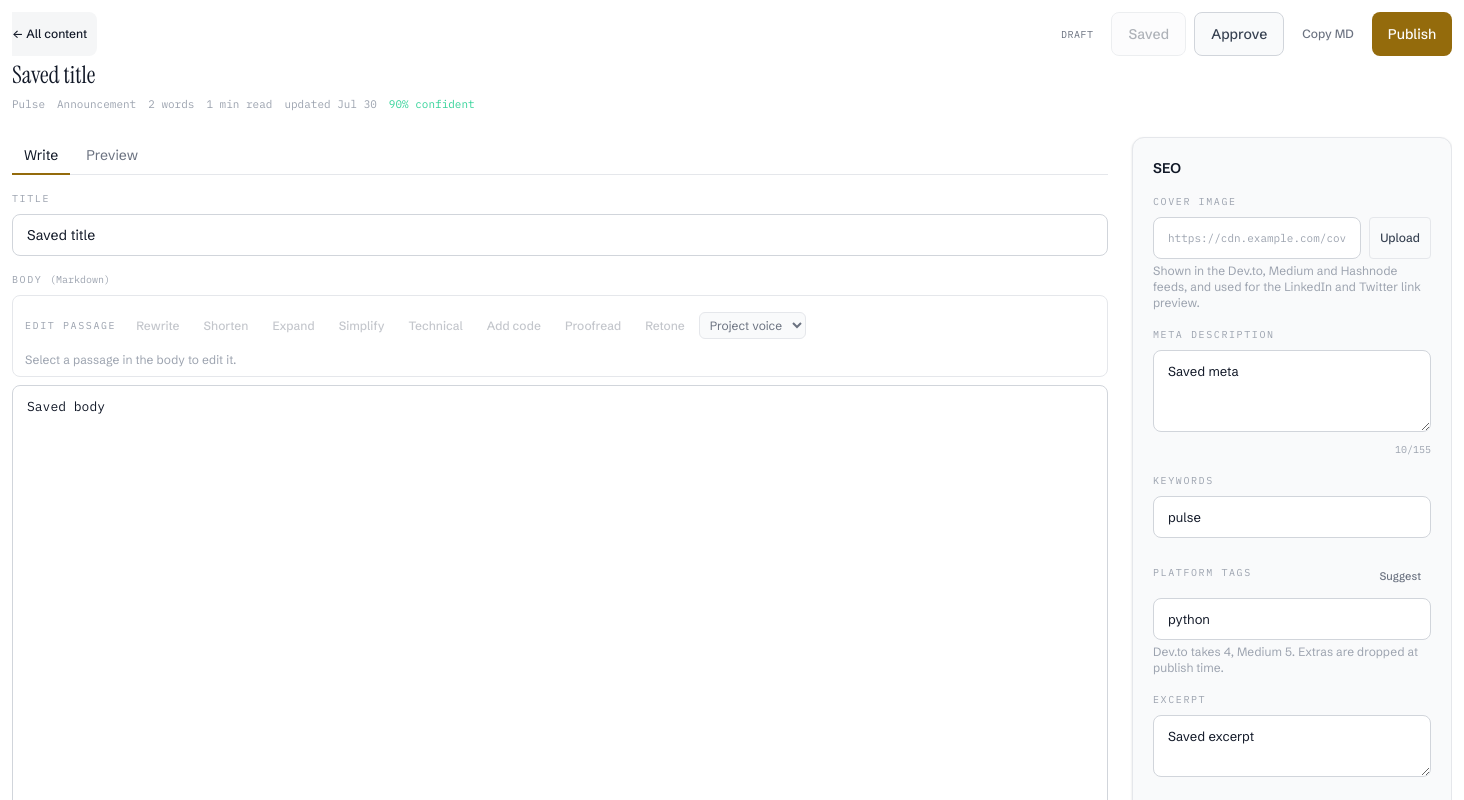
Test: auto-save › takes the server's copy when nothing was typed while it was in flight
Replace the text in the field labelled "Title" with "Saved title!" at [560, 234], box [12, 214, 1108, 256]
Wait 12000 ms
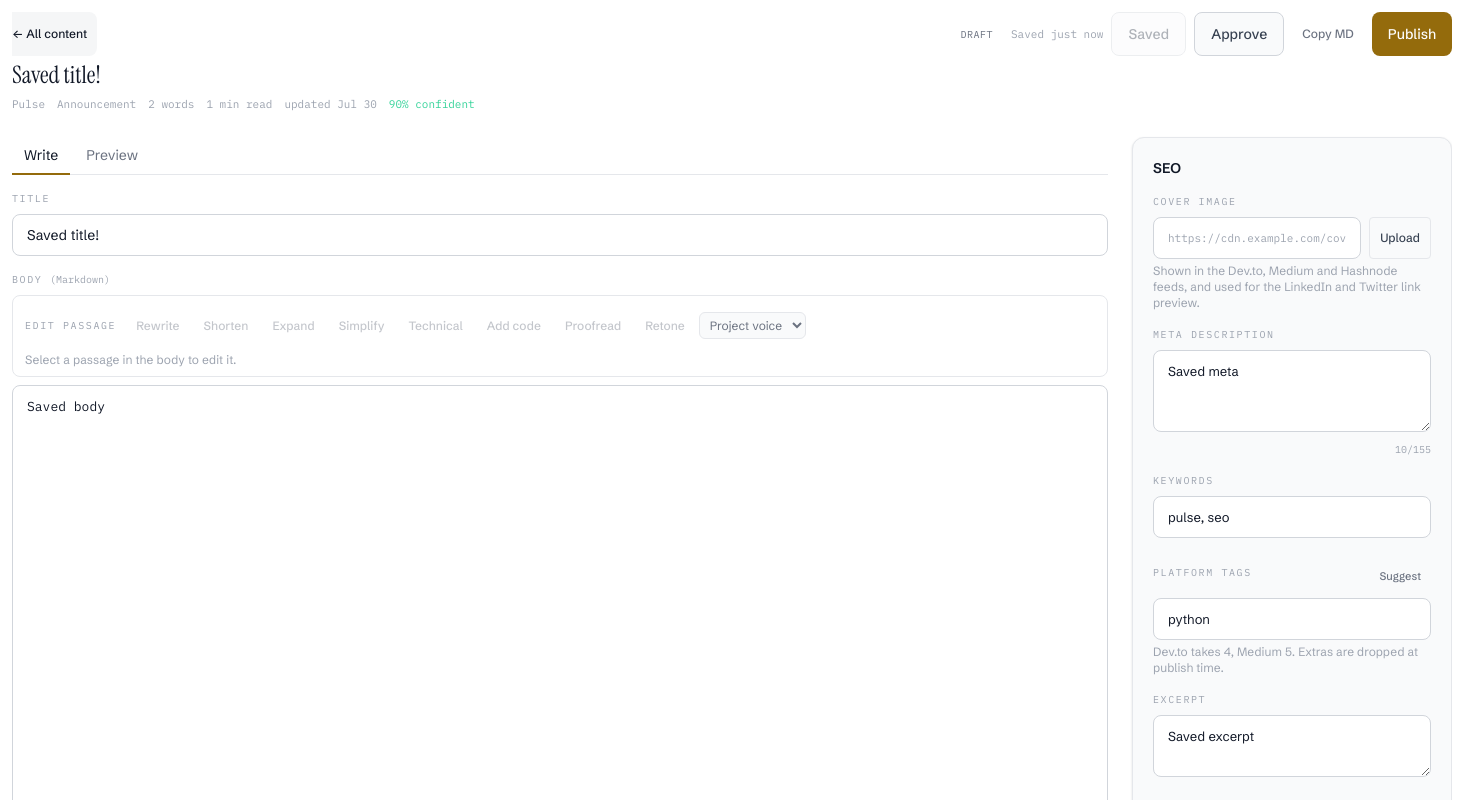
Now the field labelled "Keywords" holds "pulse, seo", box [1153, 496, 1431, 538]
